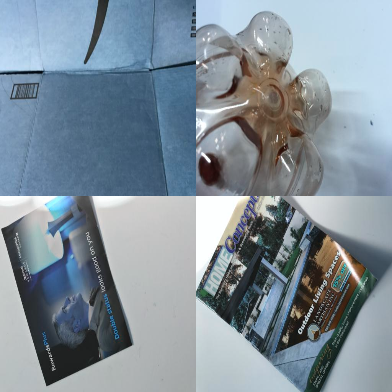cardboard: (1, 1, 196, 196)
paper: (196, 196, 380, 392), (1, 197, 135, 387)
plastic: (197, 11, 333, 196)
